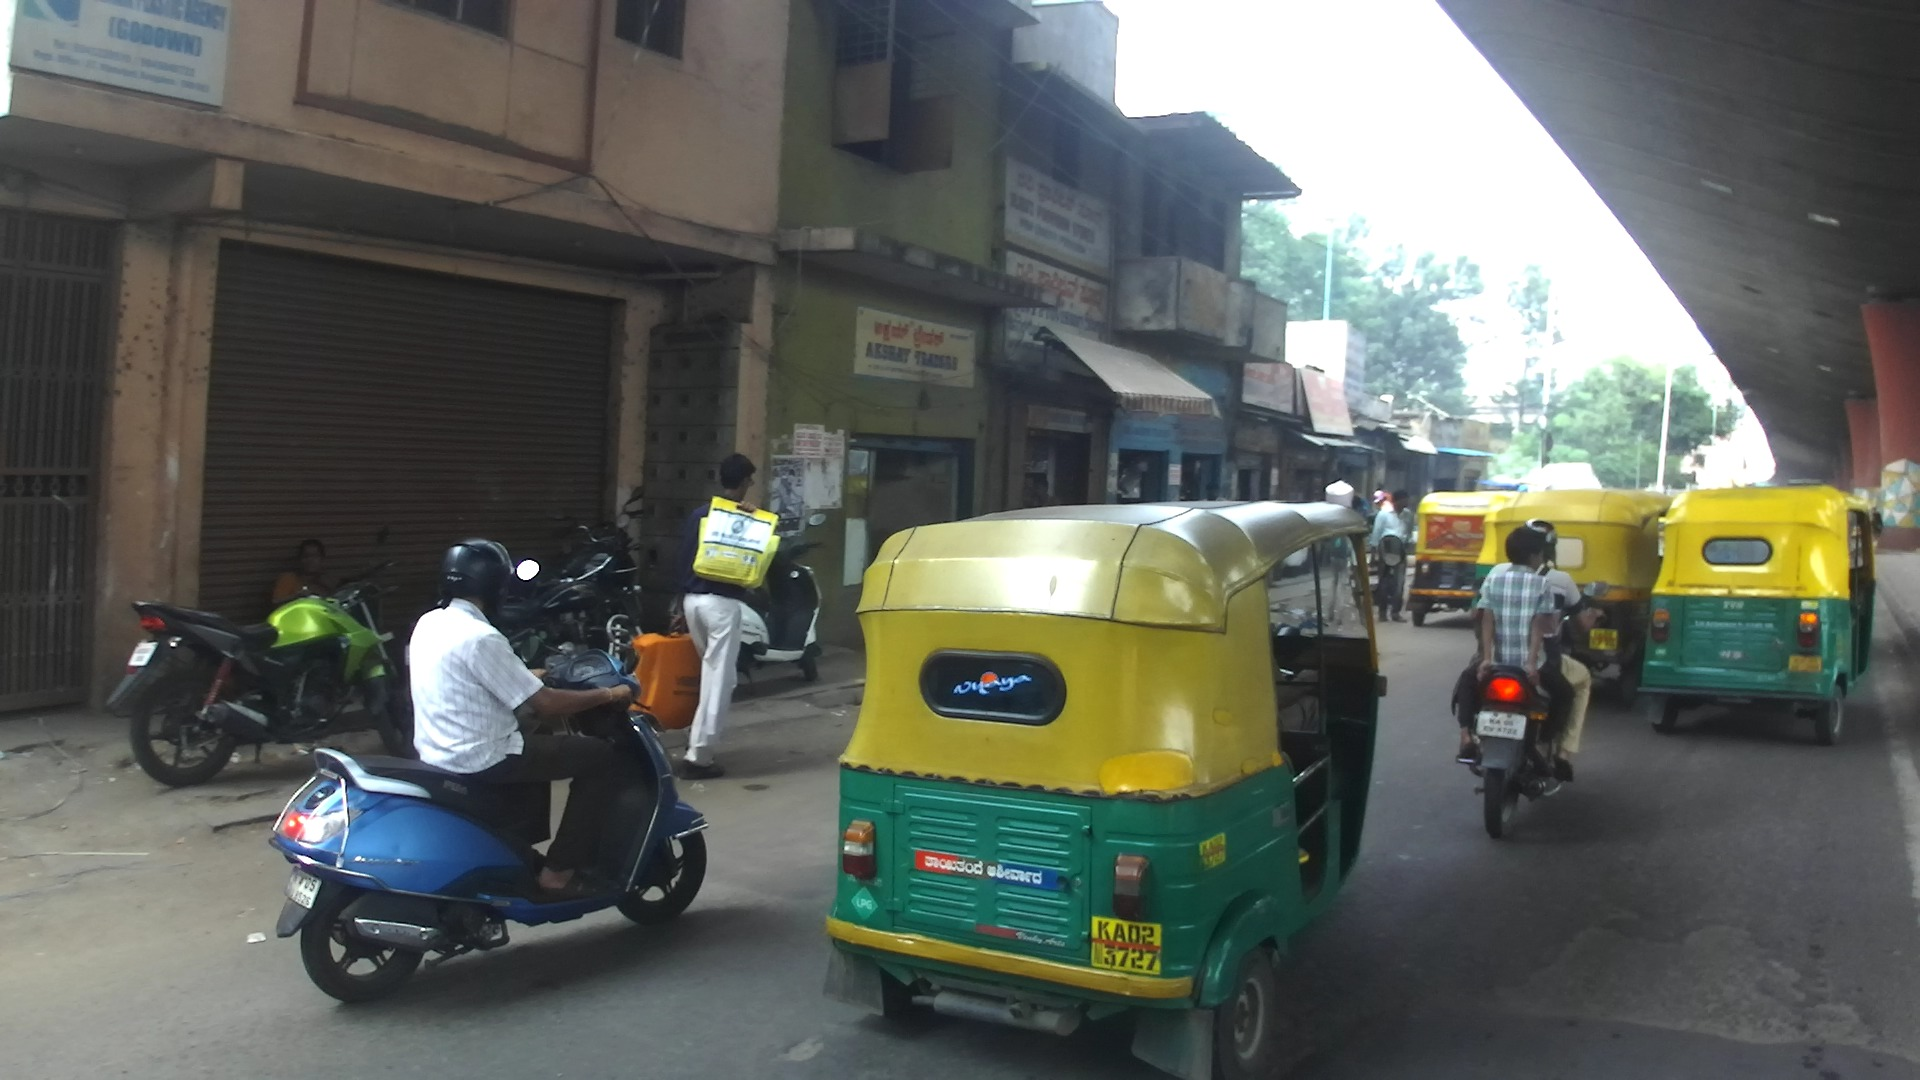autorickshaw: (823, 480, 1406, 1079), (1637, 481, 1883, 744), (1489, 483, 1674, 706), (1406, 490, 1521, 628), (1470, 495, 1515, 621)
motorcycle: (268, 633, 708, 1006), (108, 521, 414, 787), (1457, 576, 1614, 841), (487, 484, 648, 677), (489, 511, 642, 673), (712, 510, 830, 680)
person: (635, 450, 777, 781), (1371, 490, 1416, 624), (270, 539, 331, 609), (1372, 483, 1396, 516)
rider: (1458, 516, 1599, 782), (1452, 522, 1574, 775), (1202, 484, 1228, 503)
